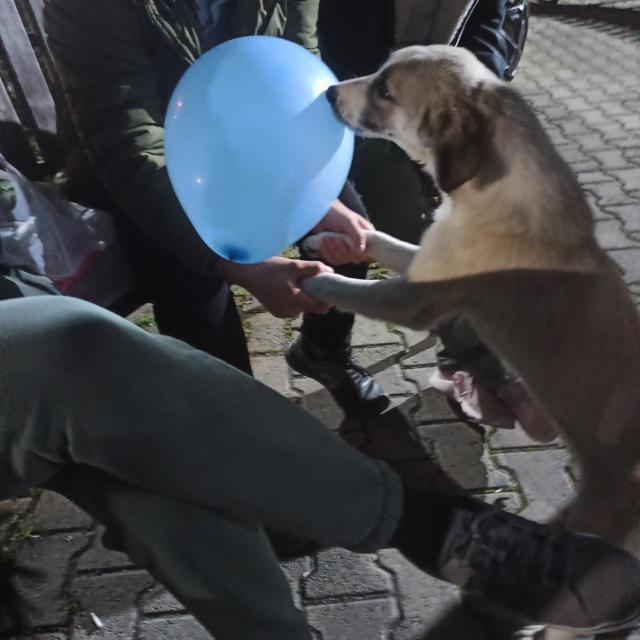balloon: (162, 34, 365, 265)
